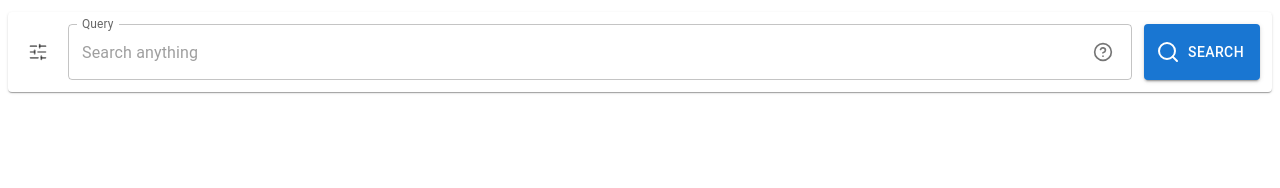
Test case: ExplorerSearchForm version scope › selects the current scope when the URL names the current version
Click the button named "Search scope: Current — v3" at (38, 52), box [20,34,56,70]
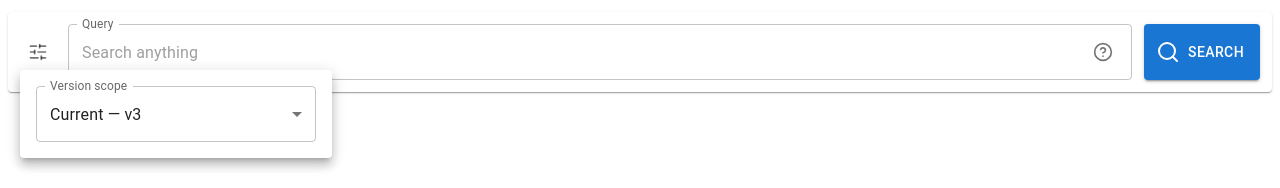
Expected: the dropdown named "Version scope" reads "Current — v3", [50,104,142,124]
